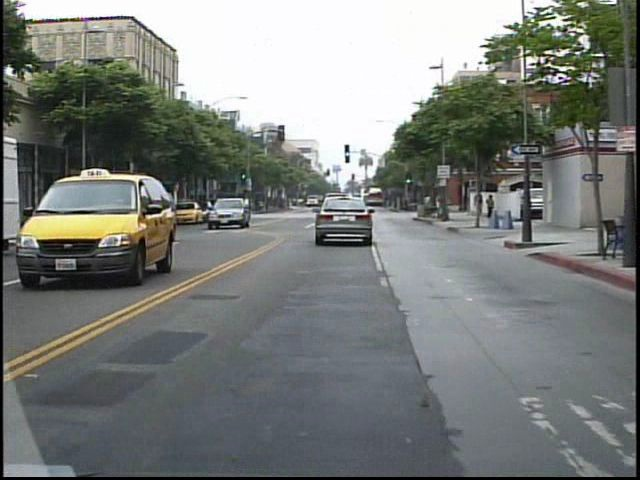person: (465, 184, 480, 225), (416, 188, 434, 220), (478, 189, 493, 224)
